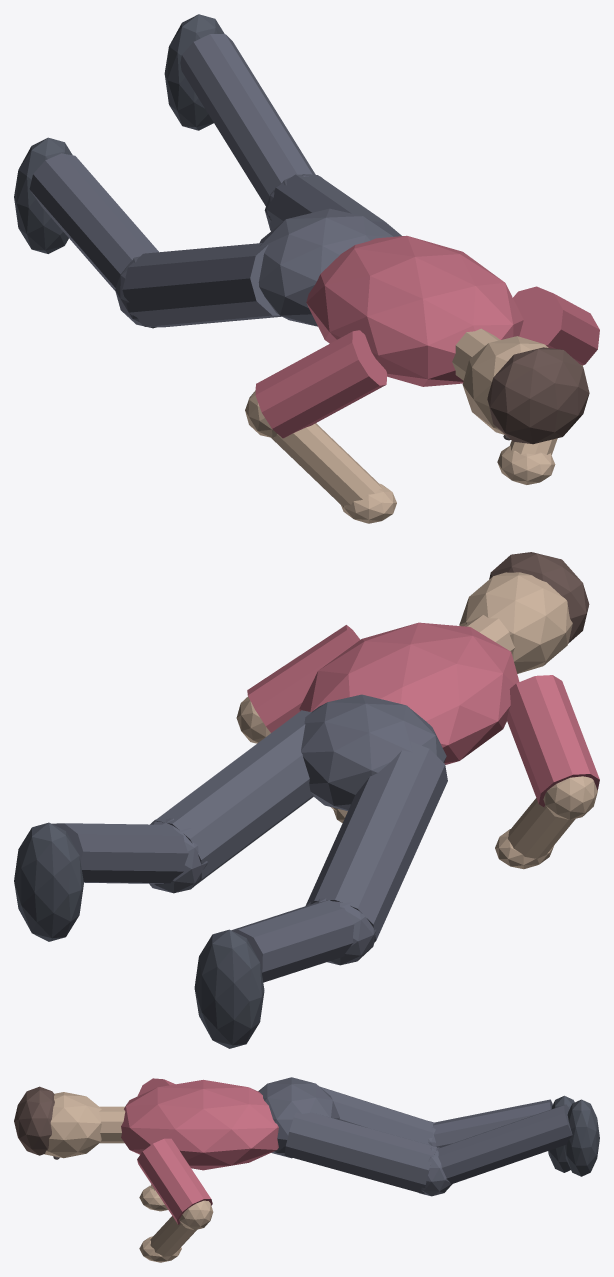
3 renders of one model, top to bottom at view 1: azimuth 30°, elevation 25°; view 2: azimuth 150°, elevation 25°; view 3: azimuth 270°, elevation 25°, orthographic. The views are drawn at different scales.
Visible parts, largest first — view 1: world; view 2: world; view 3: world.
Part boxes in pixels (x1,y1,x2,y2): world: (14, 14, 599, 523); world: (14, 552, 599, 1048); world: (14, 1077, 599, 1262).
Bounding box in the file's own units: 0.93 × 0.6103 × 2.06.
